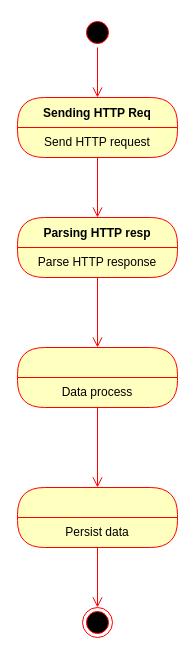
The diagram is 195 pixels wide and 655 high, and some of its shapes have lost their labels. Here are the shapes that lost their labels. From the top down, the box of each, then its label:
(16, 346, 178, 408): Data processing
(16, 486, 178, 548): Persisting data
